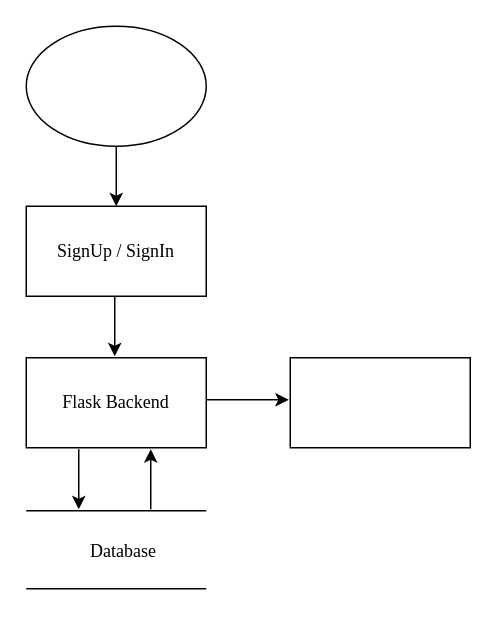
Image size: 497x617. Some labels were removed from this diagram. Here are the shapes that lost their labels. From the top down, the box of each, then its label:
(25, 25, 206, 146): User
(289, 356, 470, 448): Dashboard
